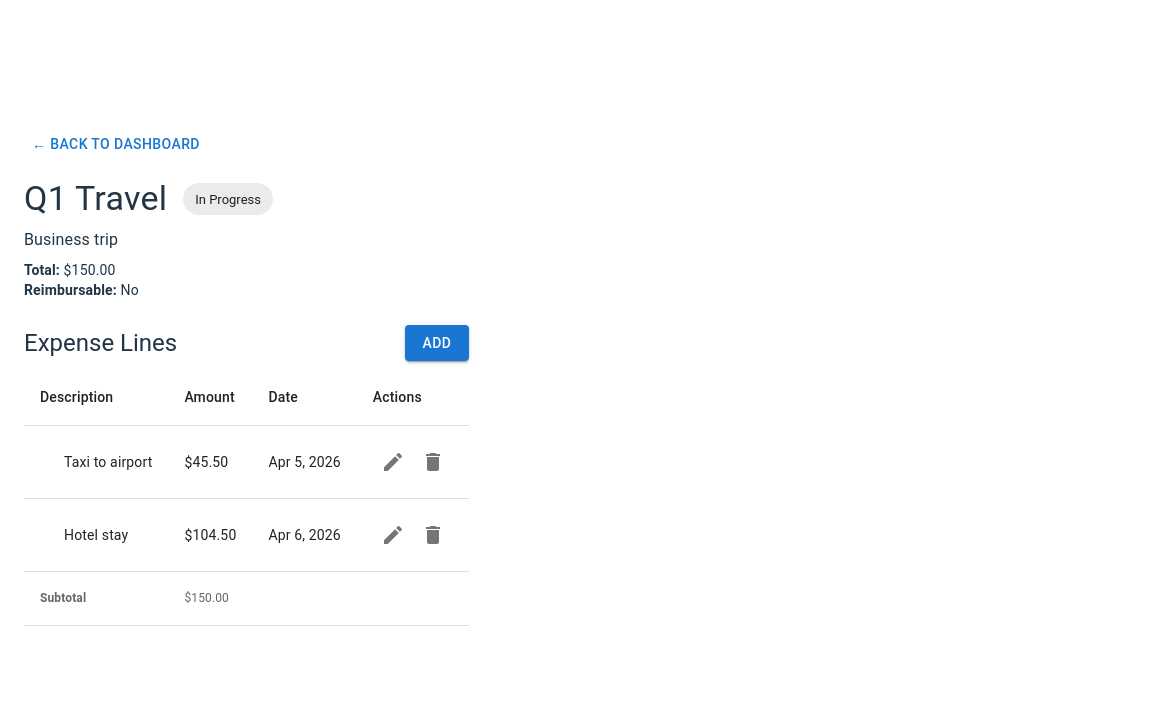
ExpenseReportDetailPage › opens delete dialog when Delete button is clicked
Click the button named "delete" in the row of "Taxi to airport" at (433, 462), box x1=413 y1=442 x2=453 y2=482
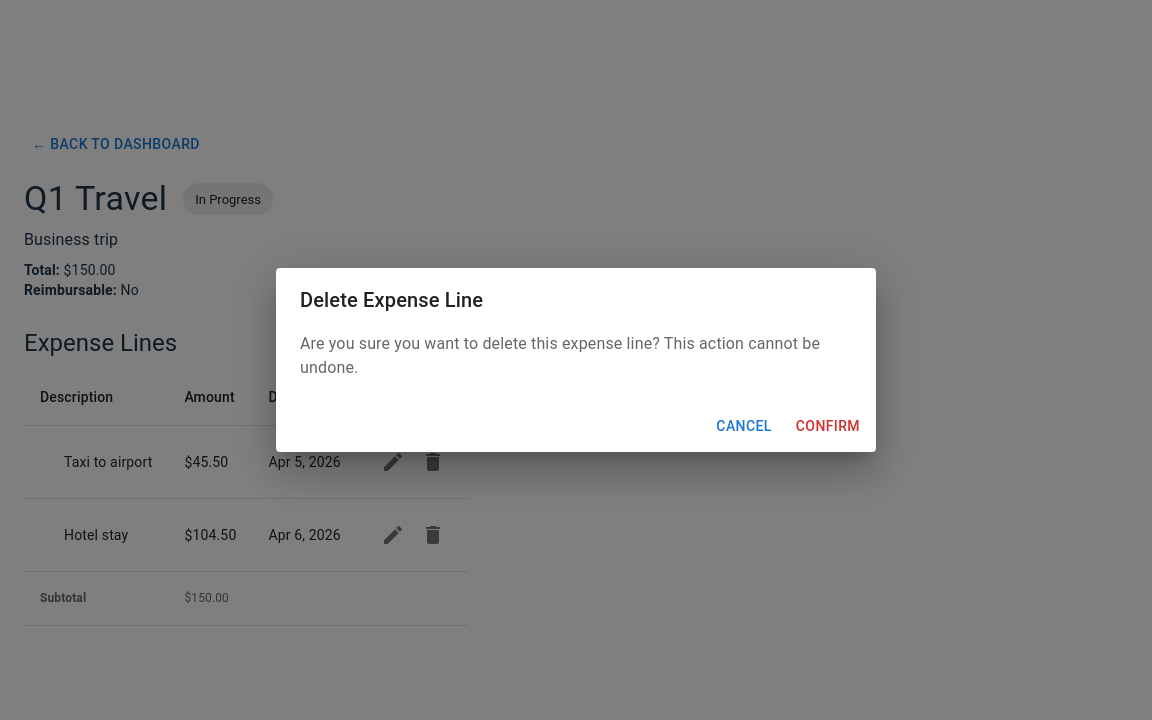
Expected: the heading "Delete Expense Line" is shown, x1=300 y1=288 x2=483 y2=312
Expected: the text "cannot be undone" is shown, x1=300 y1=334 x2=820 y2=377
